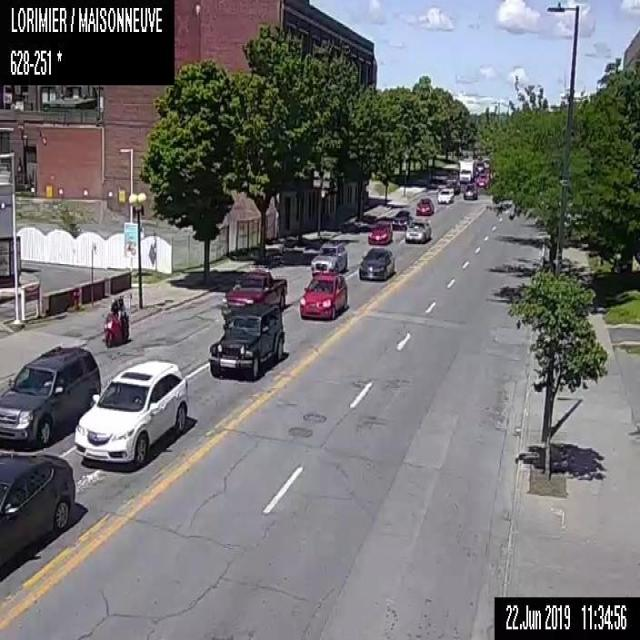vehicle: (74, 359, 188, 466), (0, 345, 99, 451), (0, 452, 75, 575), (207, 302, 284, 382), (220, 270, 286, 322), (298, 272, 347, 320), (101, 293, 131, 347), (310, 240, 347, 274), (358, 247, 394, 281), (404, 220, 431, 242), (368, 221, 392, 243), (391, 210, 412, 230), (458, 158, 475, 182), (416, 198, 433, 214), (462, 182, 477, 198), (436, 188, 452, 202), (446, 179, 460, 192)
